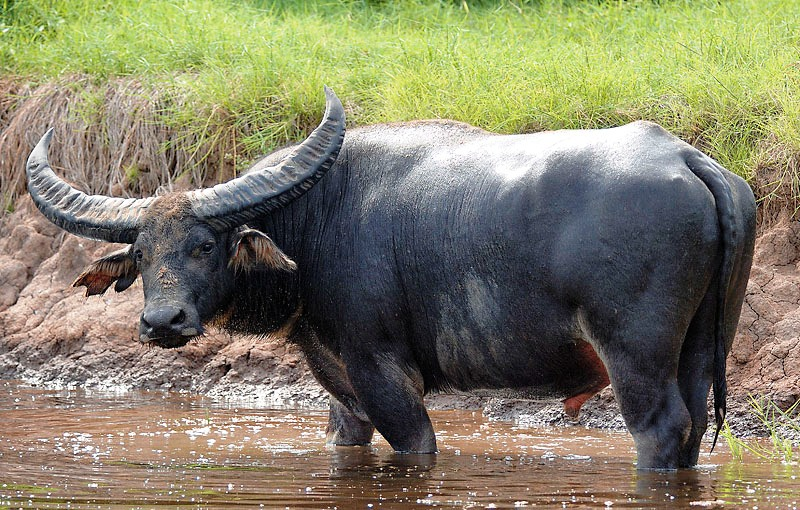buffalo: (18, 82, 755, 478)
